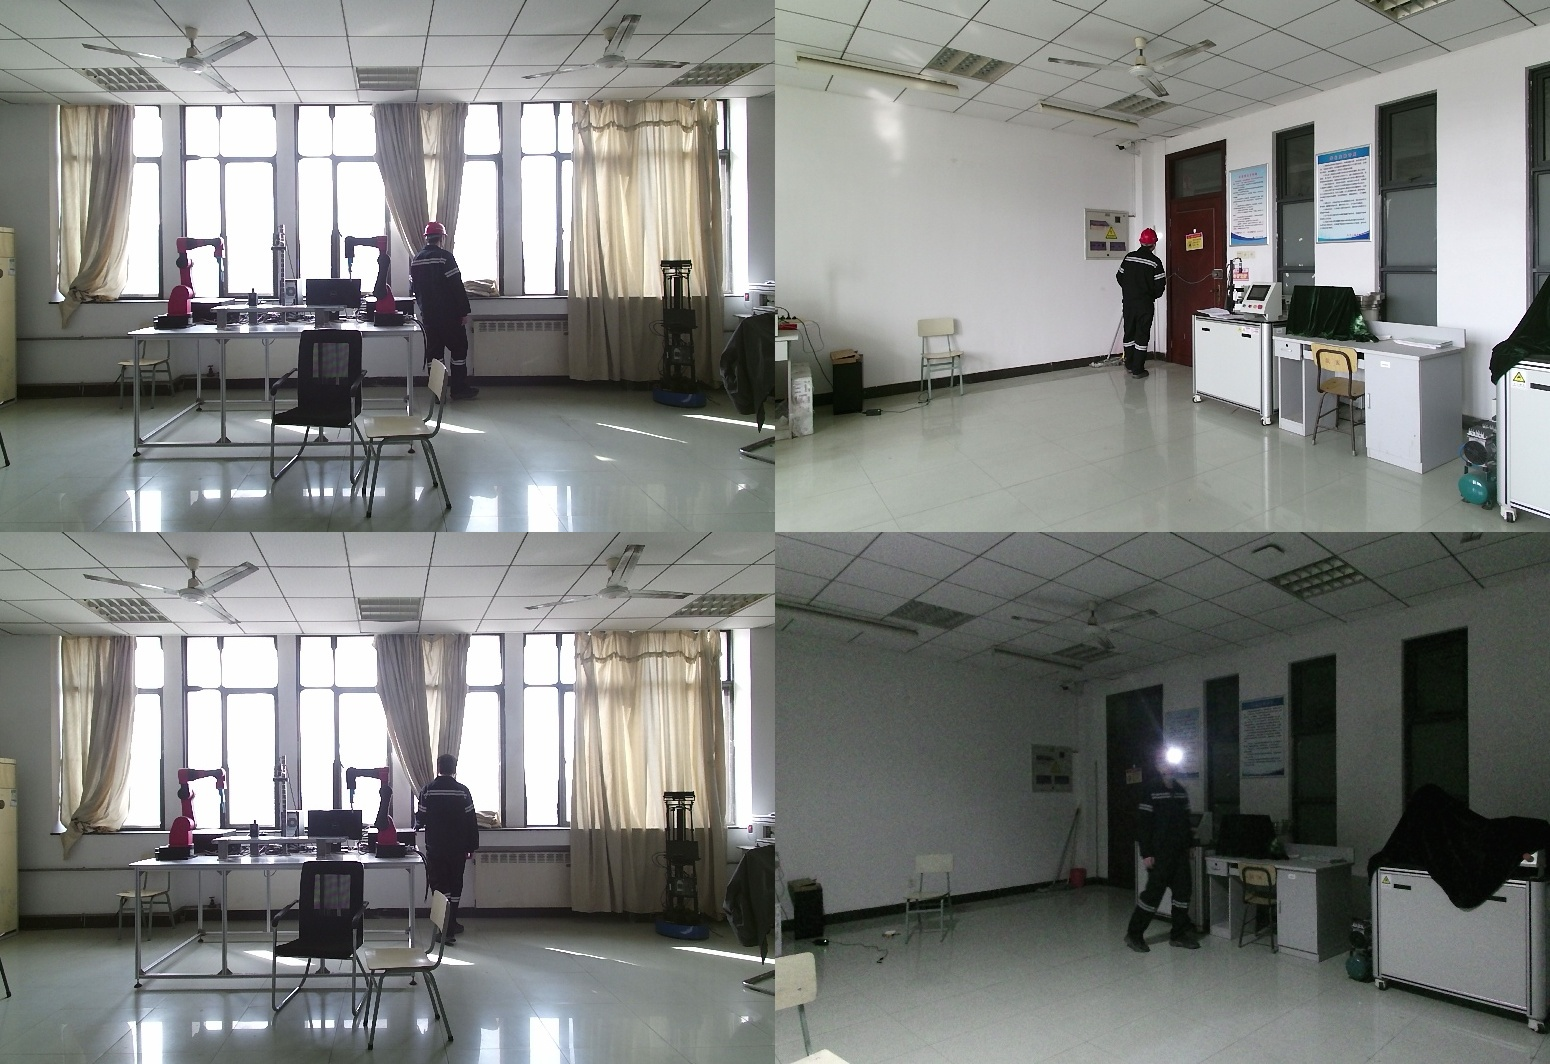person: (1124, 747, 1200, 965), (407, 223, 480, 407), (414, 752, 483, 911), (1114, 229, 1171, 382)
